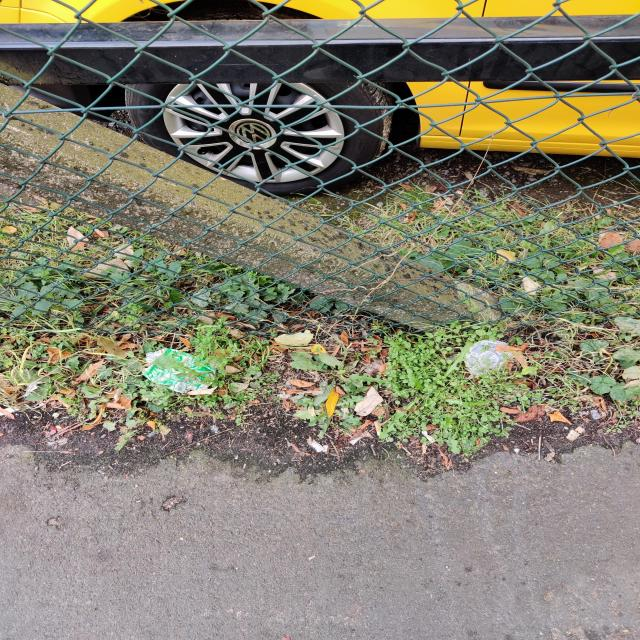litter: (139, 346, 224, 396), (448, 337, 519, 381)
